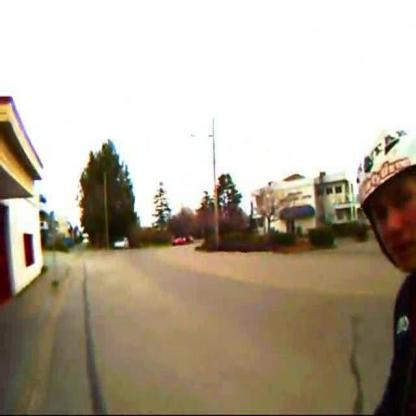other: (39, 169, 89, 250)
